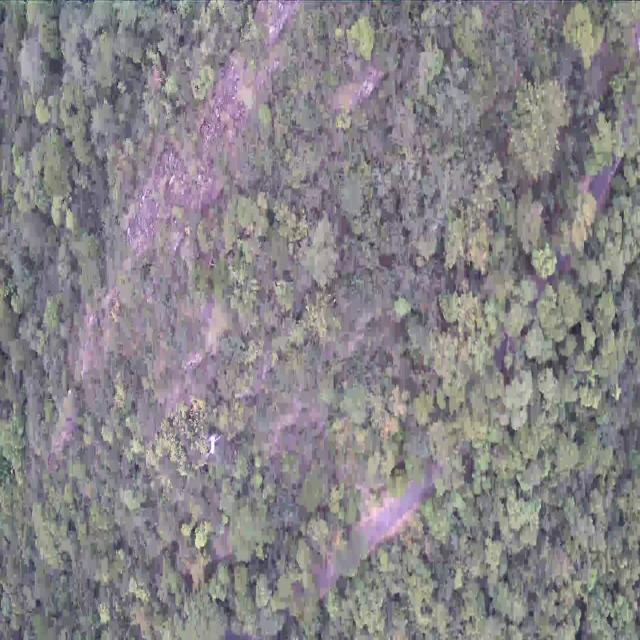UAV: (202, 432, 222, 461)
